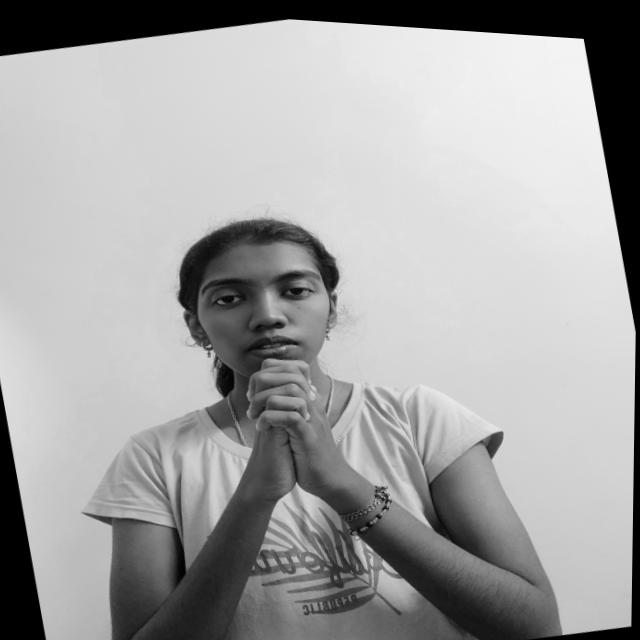Sorry: (197, 333, 373, 527)
